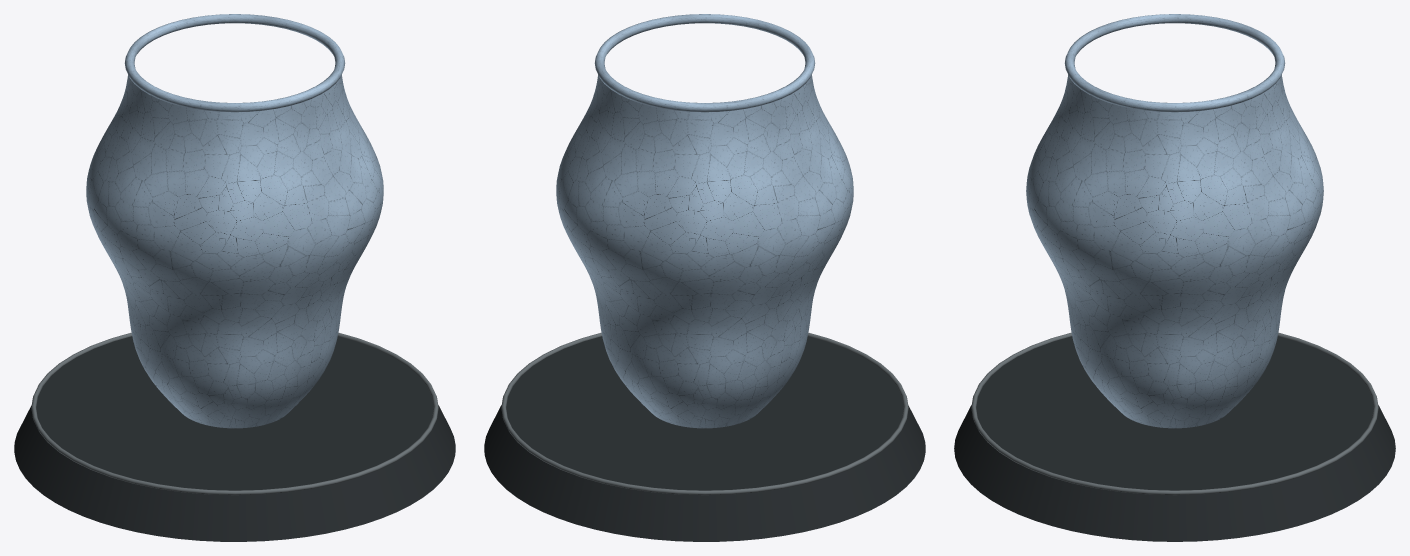
3 views of the same model, side by side, from view 1: azimuth 30°, elevation 25°; view 2: azimuth 150°, elevation 25°; view 3: azimuth 270°, elevation 25° (orthographic).
Parts seen in each view (by area): view 1: surface specimen, neutral specimen stand, specimen edge; view 2: surface specimen, neutral specimen stand, specimen edge; view 3: surface specimen, neutral specimen stand, specimen edge.
Part boxes in pixels (x1,y1,x2,y2): surface specimen: (86,14,383,428); neutral specimen stand: (14,336,455,541); specimen edge: (31,332,438,495); surface specimen: (556,14,853,428); neutral specimen stand: (484,336,925,541); specimen edge: (501,332,908,495); surface specimen: (1026,14,1323,428); neutral specimen stand: (954,336,1395,541); specimen edge: (971,332,1378,495).
Size of the model in its own units: 0.54 by 0.526 by 0.54.
3 materials, 1 textured.
